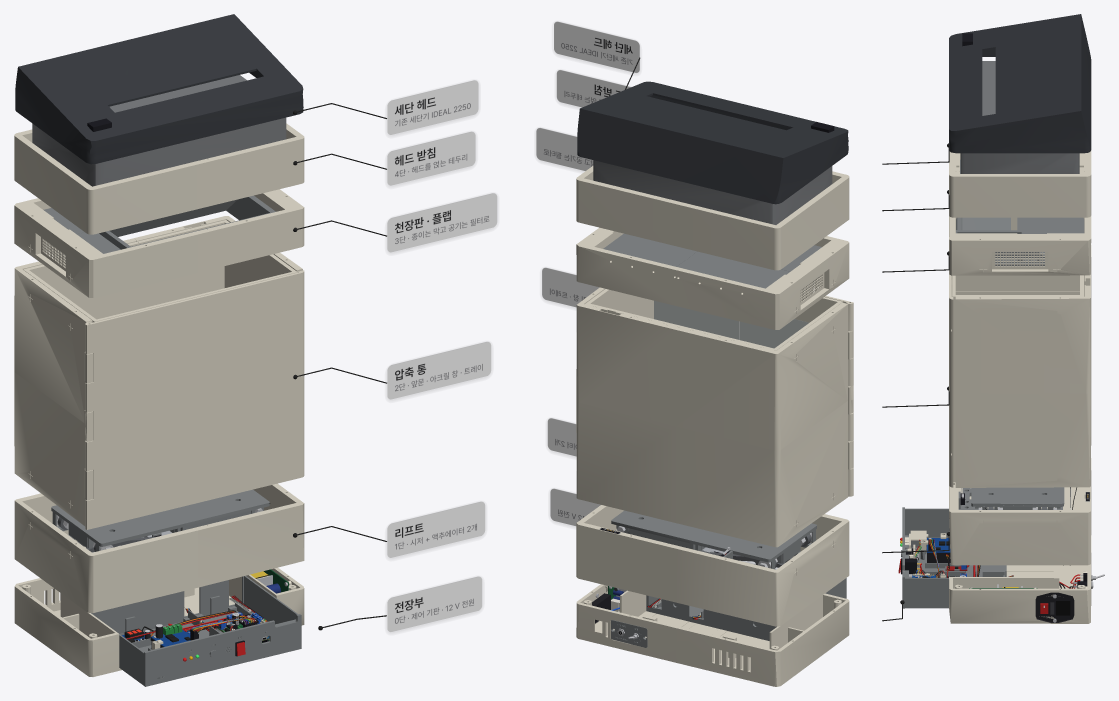
The picture shows the model from 3 angles, left to right: view 1: azimuth 30°, elevation 25°; view 2: azimuth 150°, elevation 25°; view 3: azimuth 270°, elevation 25°; orthographic projection. The views are drawn at different scales.
Parts seen in each view (by area): view 1: s2_door, head, c1_box, s2_outer, s3, s4, c0_drawer, c0_box, s2_bin, cal3, cal2, cal1 (+5 smaller); view 2: s2_outer, head, c1_box, s3, s4, c0_box, s2_bin, s2_door, cal5, c0_drawer, L_1-L6, L_1-L7 (+6 smaller); view 3: s2_outer, head, c1_box, s3, s4, c0_box, c0_drawer, s2_bin, L_1-L7, c0_fix, s2_door, s3_flap.
Part boxes in pixels (box(x1,y1,x2,y2)): s2_door: box(85, 270, 304, 529); head: box(15, 14, 303, 186); c1_box: box(14, 483, 304, 613); s2_outer: box(14, 216, 302, 526); s3: box(14, 189, 304, 297); s4: box(14, 123, 304, 234); c0_drawer: box(91, 575, 301, 686); c0_box: box(14, 567, 304, 676); s2_bin: box(23, 220, 297, 322); cal3: box(293, 193, 497, 252); cal2: box(293, 342, 491, 399); cal1: box(293, 501, 484, 557); s2_outer: box(576, 287, 853, 547); head: box(577, 81, 848, 224); c1_box: box(576, 505, 849, 626); s3: box(576, 227, 849, 329); s4: box(576, 166, 849, 270); c0_box: box(576, 584, 849, 686); s2_bin: box(585, 289, 843, 350); s2_door: box(654, 292, 853, 496); cal5: box(554, 21, 640, 89); c0_drawer: box(646, 578, 846, 640); L_1-L6: box(690, 523, 816, 569); L_1-L7: box(611, 510, 703, 548); s2_outer: box(951, 221, 1091, 487); head: box(949, 14, 1091, 173); c1_box: box(949, 458, 1091, 565); s3: box(949, 153, 1091, 275); s4: box(949, 150, 1091, 217); c0_box: box(949, 523, 1091, 623); c0_drawer: box(898, 507, 1013, 608); s2_bin: box(951, 217, 1083, 482); L_1-L7: box(971, 487, 1064, 509); c0_fix: box(969, 573, 1104, 622); s2_door: box(949, 237, 954, 487); s3_flap: box(961, 217, 1010, 230).
Bounding box in the file's own units: 0.6034 × 0.849 × 0.3342.
76 materials, 10 textured.
